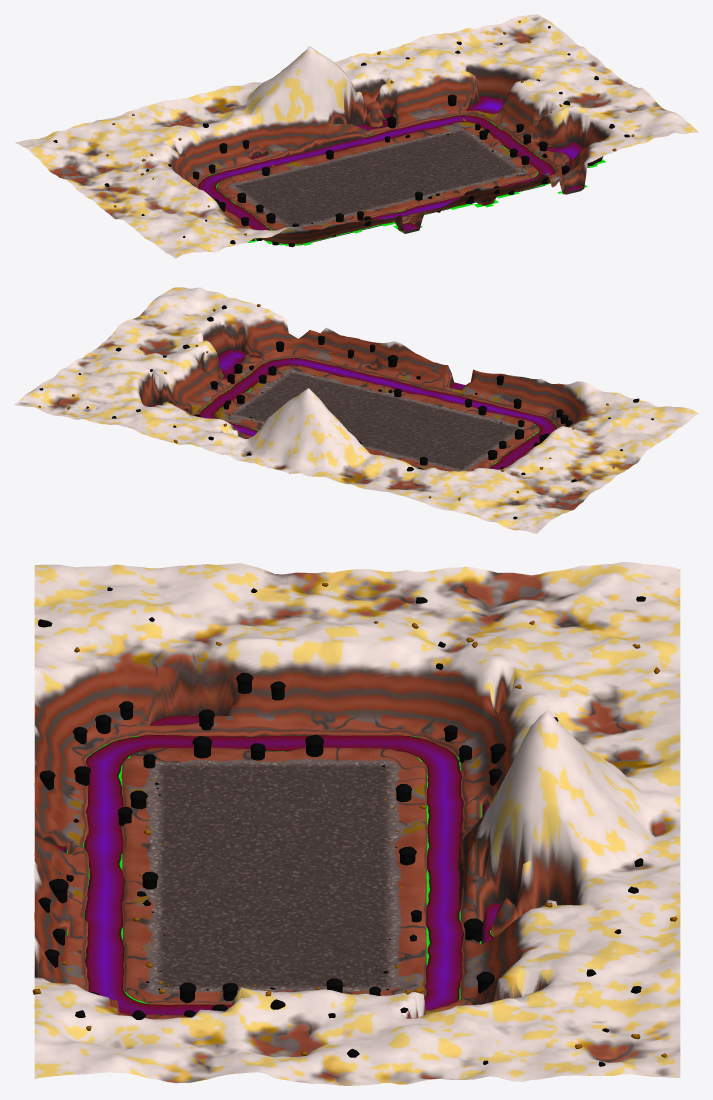
Rendered from surroundings_29x11.glb.
3 views of the same model, one above another, from view 1: azimuth 30°, elevation 25°; view 2: azimuth 150°, elevation 25°; view 3: azimuth 270°, elevation 25° (orthographic). The views are drawn at different scales.
Parts seen in each view (by area): view 1: ground, water, props; view 2: ground, water, props; view 3: ground, water, props.
Part boxes in pixels (bbox=[...]): ground: bbox=[14, 14, 698, 258]; water: bbox=[197, 95, 605, 246]; props: bbox=[53, 20, 634, 247]; ground: bbox=[14, 287, 698, 533]; water: bbox=[152, 349, 557, 469]; props: bbox=[38, 304, 653, 519]; ground: bbox=[34, 562, 680, 1085]; water: bbox=[55, 715, 501, 1015]; props: bbox=[32, 583, 677, 1066].
Size of the model in its own units: 73.01 by 11.53 by 39.13.
3 materials, 3 textured.
